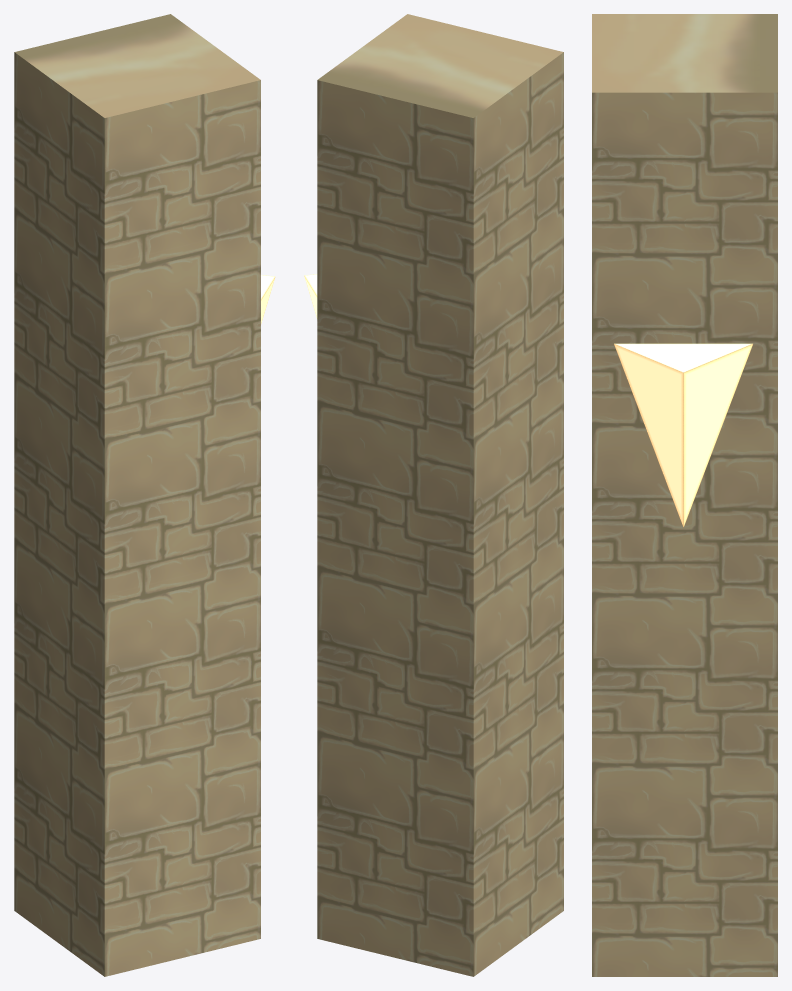
Rendered from wall_sconce.gltf.
The picture shows the model from 3 angles, left to right: view 1: azimuth 30°, elevation 25°; view 2: azimuth 150°, elevation 25°; view 3: azimuth 270°, elevation 25°; orthographic projection. The views are drawn at different scales.
Visible parts, largest first — view 1: col; view 2: col; view 3: col, sconce.
Boxes of the visible parts, x1,y1,x2,y2 form: col: (14,14,260,976); col: (317,14,563,976); col: (592,14,777,976); sconce: (614,343,752,527).
Size of what is drawn, in the model's own units: 0.8395 by 3.2 by 0.6096.
Materials: 2 (2 with a texture image).
